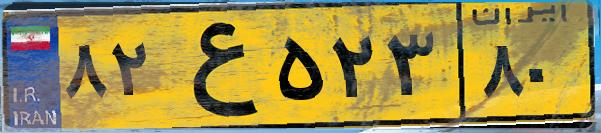0: (525, 38, 570, 115)
2: (330, 28, 385, 110), (110, 28, 158, 98)
3: (385, 28, 445, 110)
5: (270, 28, 330, 110)
8: (57, 26, 110, 100), (475, 38, 525, 113)
ع: (158, 12, 270, 120)
